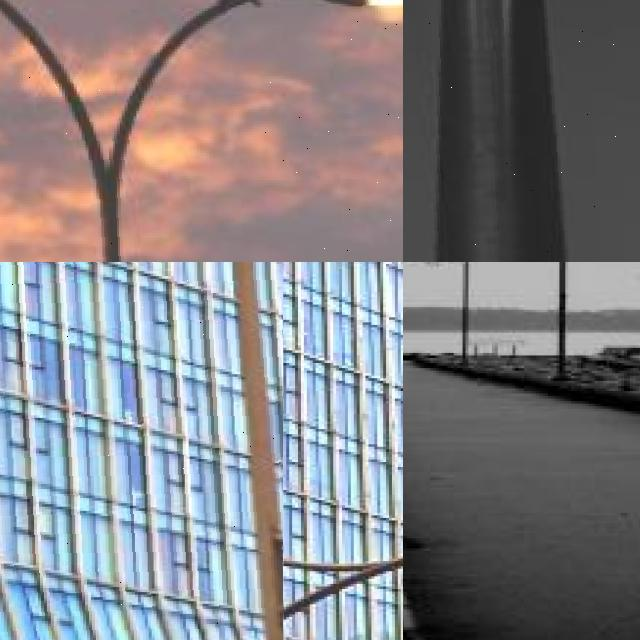street light: (0, 262, 283, 640), (0, 0, 403, 262), (403, 0, 640, 262), (486, 262, 574, 381), (421, 262, 474, 369)
